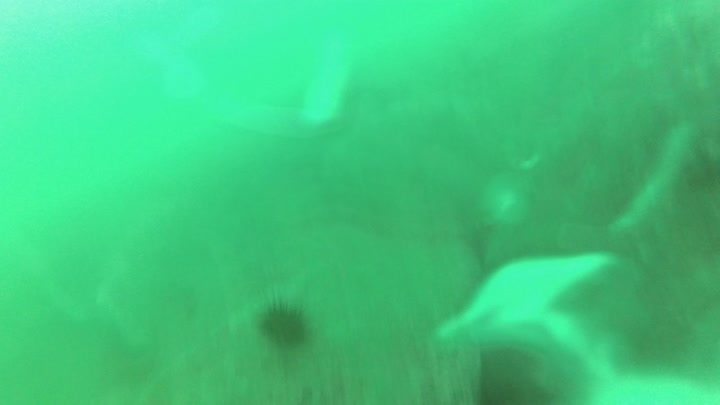echinus: (251, 288, 312, 352)
